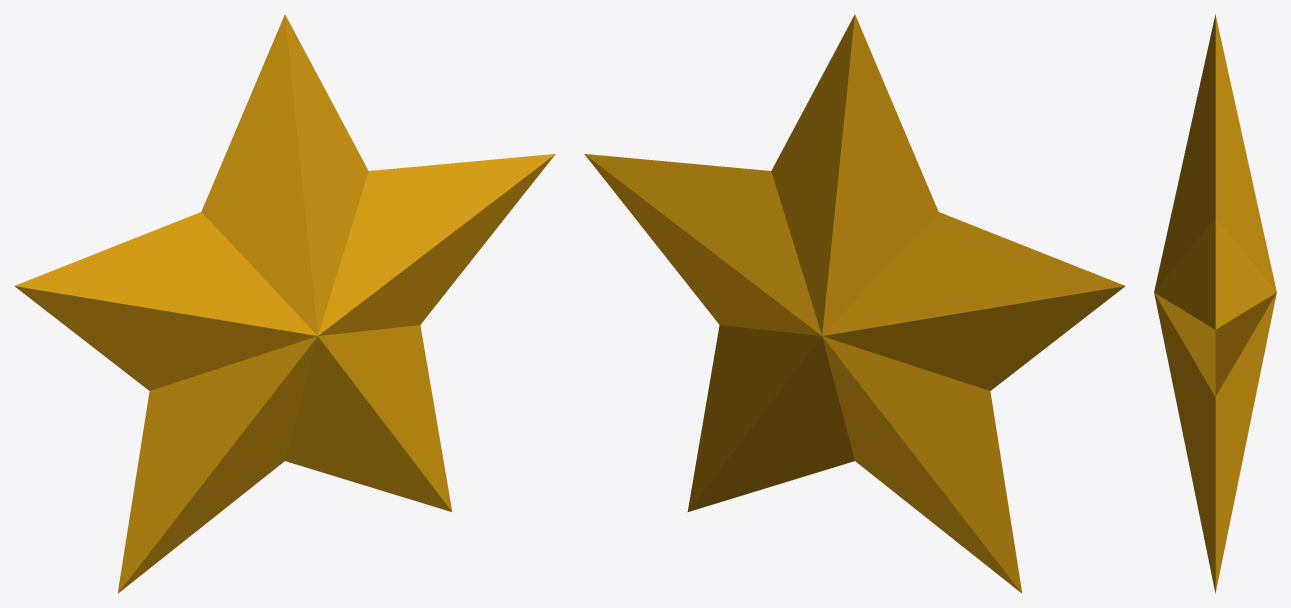
File: Bintang.fbx
3 views of the same model, side by side, from view 1: azimuth 30°, elevation 25°; view 2: azimuth 150°, elevation 25°; view 3: azimuth 270°, elevation 25° (orthographic). The views are drawn at different scales.
Visible parts, largest first — view 1: Circle; view 2: Circle; view 3: Circle.
Boxes of the visible parts, x1=… form: Circle: x1=14, y1=14, x2=555, y2=593; Circle: x1=584, y1=14, x2=1125, y2=593; Circle: x1=1154, y1=14, x2=1276, y2=593.
Size of the model in its own units: 190 by 181 by 40.
